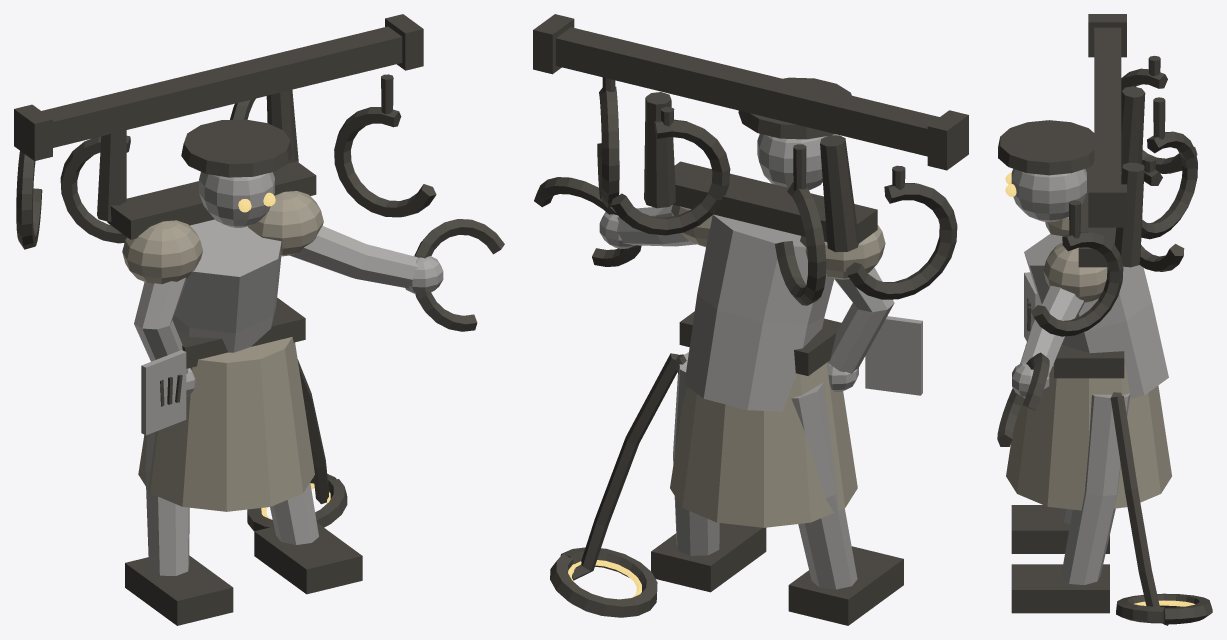
Rendered from pressman.glb.
3 renders of one model, left to right at view 1: azimuth 30°, elevation 25°; view 2: azimuth 150°, elevation 25°; view 3: azimuth 270°, elevation 25°, orthographic. The views are drawn at different scales.
Visible parts, largest first — view 1: pressman_dark, pressman_bone, pressman_body; view 2: pressman_dark, pressman_bone, pressman_body; view 3: pressman_dark, pressman_bone, pressman_body, pressman_glow.
Boxes of the visible parts, x1,y1,x2,y2 form: pressman_dark: (14, 14, 504, 625); pressman_bone: (134, 172, 443, 575); pressman_body: (122, 191, 323, 511); pressman_dark: (533, 14, 968, 625); pressman_bone: (599, 133, 922, 589); pressman_body: (670, 204, 885, 527); pressman_dark: (997, 14, 1212, 625); pressman_bone: (1011, 169, 1168, 584); pressman_body: (1006, 217, 1171, 510); pressman_glow: (1005, 173, 1194, 606).
Bounding box in the file's own units: 2.61 × 2.85 × 1.18.
